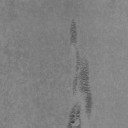oxide scale of plate system: (69, 16, 94, 121), (66, 103, 83, 128)
